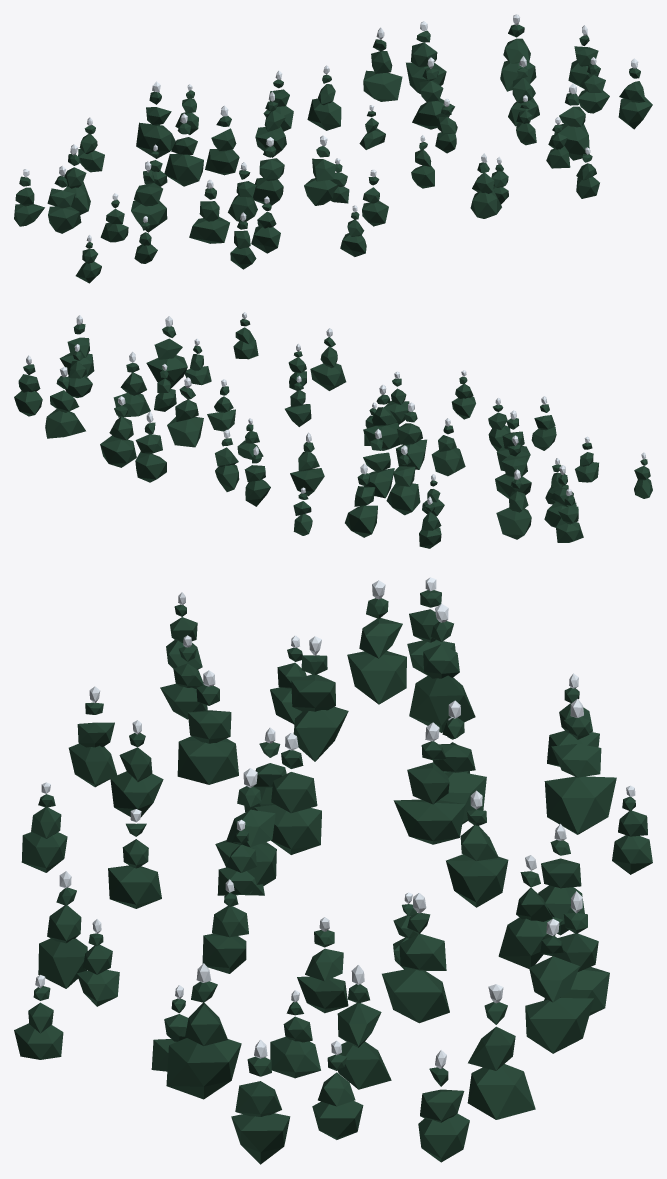
File: Frontier_Grove_Far_B.fbx
3 views of the same model, one above another, from view 1: azimuth 30°, elevation 25°; view 2: azimuth 150°, elevation 25°; view 3: azimuth 270°, elevation 25° (orthographic). The views are drawn at different scales.
Visible parts, largest first — view 1: Frontier_Grove_Far_B; view 2: Frontier_Grove_Far_B; view 3: Frontier_Grove_Far_B.
Boxes of the visible parts, x1,y1,x2,y2 form: Frontier_Grove_Far_B: (14, 14, 652, 283); Frontier_Grove_Far_B: (14, 312, 652, 548); Frontier_Grove_Far_B: (14, 577, 652, 1164).
Bounding box in the file's own units: 5892 × 766 × 3140.
